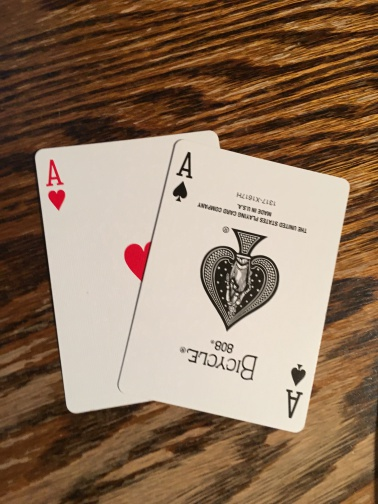ace: (122, 138, 350, 432), (33, 137, 174, 408)
